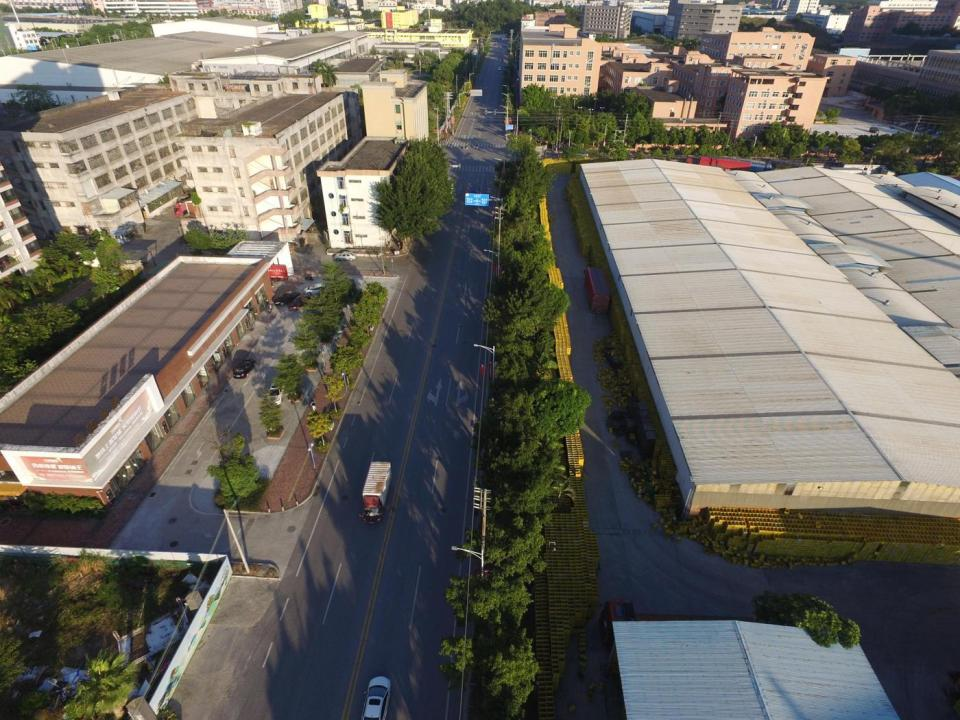car: (356, 675, 393, 720), (232, 358, 258, 380), (272, 291, 302, 308), (267, 380, 283, 407), (288, 294, 313, 310), (302, 282, 329, 296), (332, 251, 356, 261)
truck: (598, 600, 775, 651), (359, 461, 392, 525), (580, 264, 612, 315), (173, 195, 199, 217)
